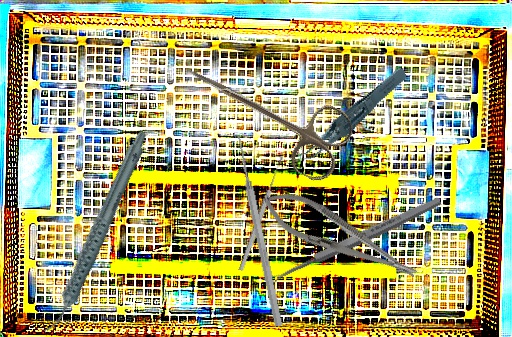Handpiece: (4, 128, 185, 337)
Iris Scissors: (169, 40, 360, 187)
Needle Holder: (254, 179, 425, 294)
Pusher: (232, 134, 286, 328)
Surgical Spoon: (262, 194, 443, 289), (237, 155, 286, 272)
Tissue Forceps: (280, 65, 421, 165)
